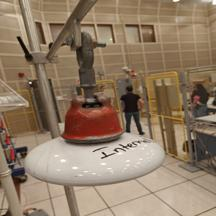insulator: (8, 84, 170, 190)
